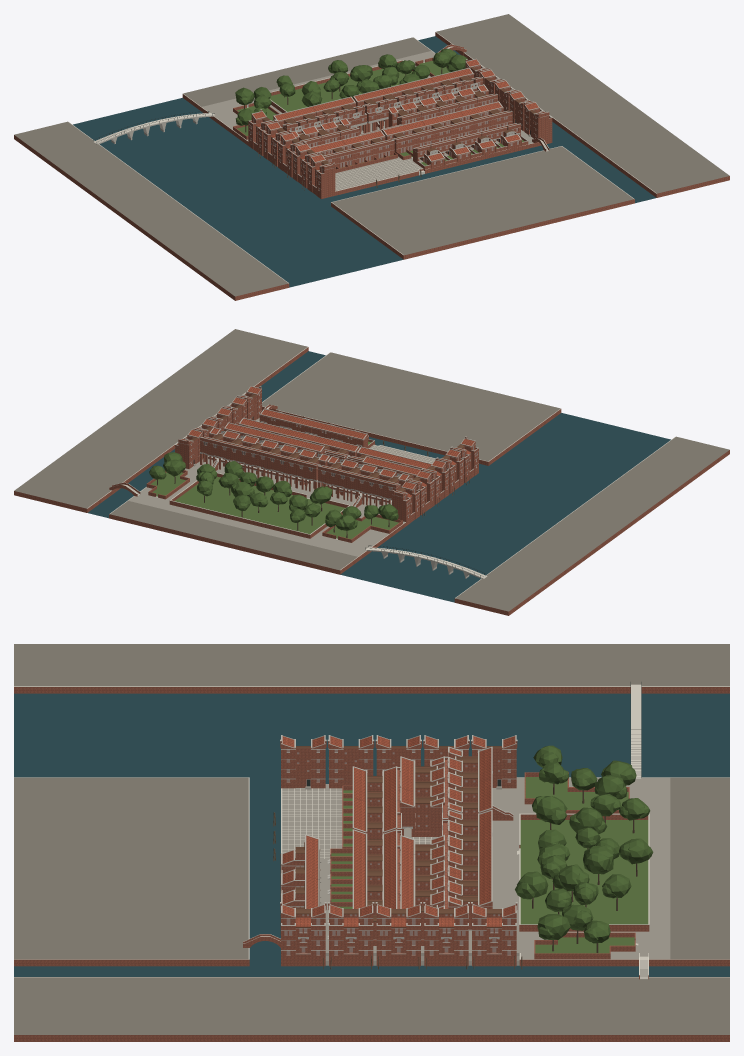
Rendered from SM_Giudecca_IACP_Valle.glb.
The picture shows the model from 3 angles, top to bottom: view 1: azimuth 30°, elevation 25°; view 2: azimuth 150°, elevation 25°; view 3: azimuth 270°, elevation 25°; orthographic projection. The views are drawn at different scales.
Visible parts, largest first — view 1: SM_Site_Banks, SM_Site_Water, SM_Site_TreeCrowns, SM_Site_Plate, SM_Site_GardenLawn_North, SM_Tower_Body_W4, SM_Site_BridgeLavraneri, SM_Schiera_Body_W, SM_Tower_Body_E4, SM_Schiera_Trim, SM_Schiera_Body_E, SM_Carpet_Copings_E1 (+12 smaller); view 2: SM_Site_Banks, SM_Site_Water, SM_Site_TreeCrowns, SM_Site_Plate, SM_Site_GardenLawn_North, SM_Site_GardenLawn_Side, SM_Site_GardenWalls_North, SM_Carpet_NorthPavN_E3, SM_Carpet_NorthPavN_W1, SM_Carpet_NorthPavN_E2, SM_Site_BridgeLavraneri, SM_Carpet_NorthPavN_W2 (+10 smaller); view 3: SM_Site_Banks, SM_Site_Water, SM_Site_Plate, SM_Site_TreeCrowns, SM_Site_GardenLawn_North, SM_Site_GardenLawn_Side, SM_Tower_Body_E2, SM_Tower_Body_E3, SM_Tower_Body_E0, SM_Tower_Body_E4, SM_Tower_Body_E1, SM_Tower_Body_W4 (+22 smaller).
Part boxes in pixels (<box>): SM_Site_Banks: <box>14,14,729,300</box>; SM_Site_Water: <box>73,36,655,287</box>; SM_Site_TreeCrowns: <box>235,48,467,125</box>; SM_Site_Plate: <box>201,51,538,195</box>; SM_Site_GardenLawn_North: <box>269,68,412,111</box>; SM_Tower_Body_W4: <box>307,157,335,199</box>; SM_Site_BridgeLavraneri: <box>93,113,215,144</box>; SM_Schiera_Body_W: <box>413,137,470,168</box>; SM_Tower_Body_E4: <box>524,102,552,145</box>; SM_Schiera_Trim: <box>413,123,521,164</box>; SM_Schiera_Body_E: <box>469,124,521,155</box>; SM_Carpet_Copings_E1: <box>431,67,512,120</box>; SM_Site_Banks: <box>14,329,729,615</box>; SM_Site_Water: <box>88,351,670,602</box>; SM_Site_TreeCrowns: <box>149,452,398,530</box>; SM_Site_Plate: <box>128,418,435,560</box>; SM_Site_GardenLawn_North: <box>174,476,345,534</box>; SM_Site_GardenLawn_Side: <box>150,472,398,539</box>; SM_Site_GardenWalls_North: <box>169,473,349,538</box>; SM_Carpet_NorthPavN_E3: <box>277,456,320,491</box>; SM_Carpet_NorthPavN_W1: <box>318,466,361,501</box>; SM_Carpet_NorthPavN_E2: <box>239,446,281,482</box>; SM_Site_BridgeLavraneri: <box>365,547,487,578</box>; SM_Carpet_NorthPavN_W2: <box>357,475,400,506</box>; SM_Site_Banks: <box>14,644,729,1041</box>; SM_Site_Water: <box>14,693,729,976</box>; SM_Site_Plate: <box>281,777,670,966</box>; SM_Site_TreeCrowns: <box>515,745,653,943</box>; SM_Site_GardenLawn_North: <box>520,820,648,924</box>; SM_Site_GardenLawn_Side: <box>525,777,634,953</box>; SM_Tower_Body_E2: <box>376,913,420,966</box>; SM_Tower_Body_E3: <box>329,913,373,966</box>; SM_Tower_Body_E0: <box>472,913,516,966</box>; SM_Tower_Body_E4: <box>281,913,325,966</box>; SM_Tower_Body_E1: <box>424,913,468,966</box>; SM_Tower_Body_W4: <box>281,744,325,788</box>.
Bounding box in the file's own units: 256 × 16.58 × 198.
15 materials, 2 textured.
